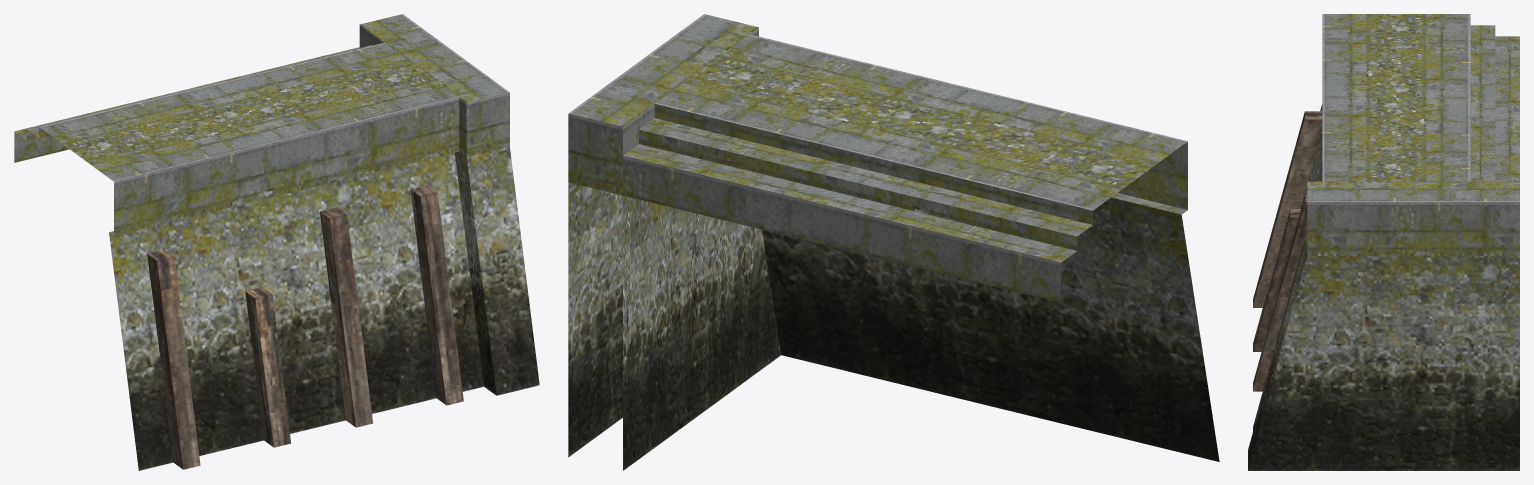
The model's file is CanalWall01a.obj.
The picture shows the model from 3 angles, left to right: view 1: azimuth 30°, elevation 25°; view 2: azimuth 150°, elevation 25°; view 3: azimuth 270°, elevation 25°; orthographic projection. The views are drawn at different scales.
Visible parts, largest first — view 1: CanalWall01, CanalWallCap, CanalWallPosts01, CanalWallPosts02, CanalWallPosts03; view 2: CanalWall01, CanalWallCap; view 3: CanalWallCap, CanalWall01, CanalWallPosts01, CanalWallPosts02, CanalWallPosts03.
Boxes of the visible parts, box(x1,y1,x2,y2) form: CanalWall01: box(14, 43, 483, 470); CanalWallCap: box(359, 14, 539, 395); CanalWallPosts01: box(151, 185, 463, 469); CanalWallPosts02: box(155, 207, 463, 469); CanalWallPosts03: box(147, 223, 462, 469); CanalWall01: box(623, 34, 1219, 461); CanalWallCap: box(568, 14, 781, 470); CanalWallCap: box(1248, 181, 1519, 470); CanalWall01: box(1300, 14, 1519, 208); CanalWallPosts01: box(1253, 142, 1316, 430); CanalWallPosts02: box(1253, 170, 1307, 405); CanalWallPosts03: box(1253, 111, 1322, 307).
Size of the model in its own units: 9 by 6 by 5.5.
